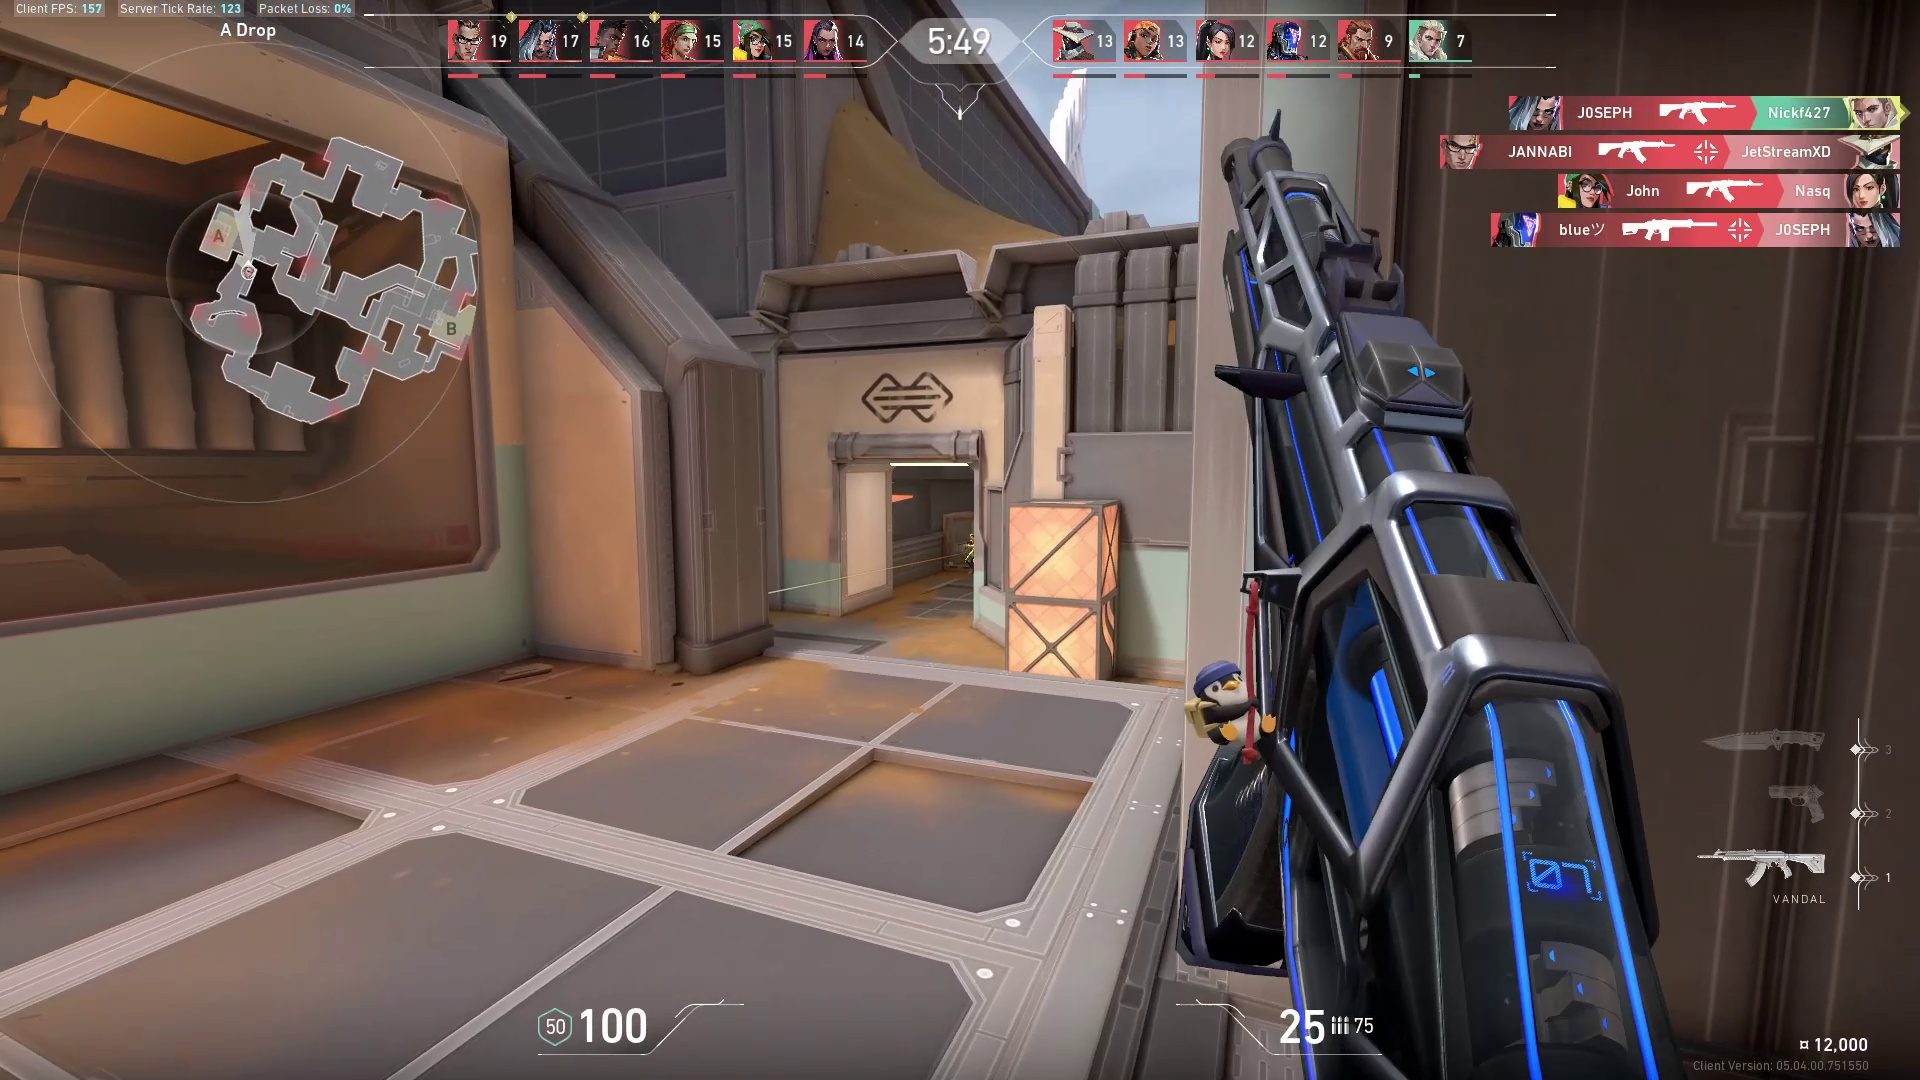enemy_body: (963, 541, 976, 576)
enemy_head: (967, 533, 975, 543)
